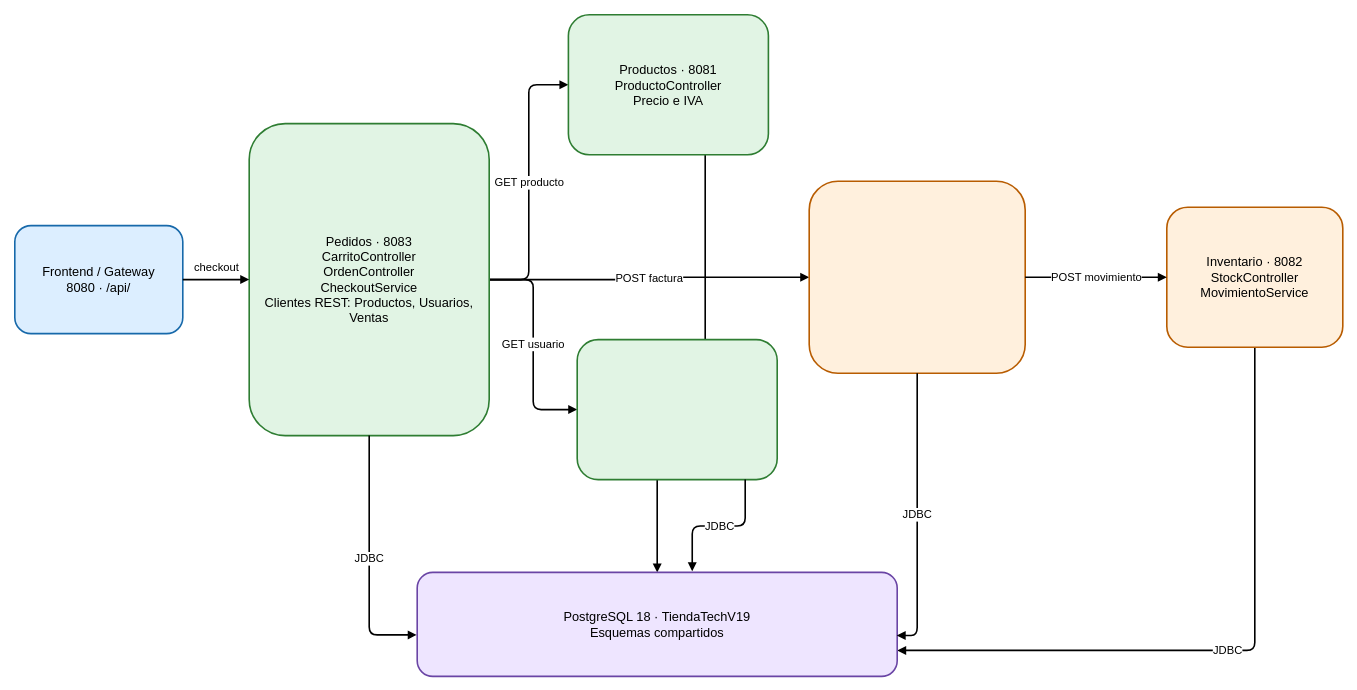
This 1357x690 diagram has some shape labels left out. The centre of each missing label's shape, as x and y in pixels:
Usuarios · 8085 UsuarioController Usuario y dirección: pixel 677 409
Ventas · 8086 FacturaController FacturaService Cliente REST a Inventario: pixel 917 277
